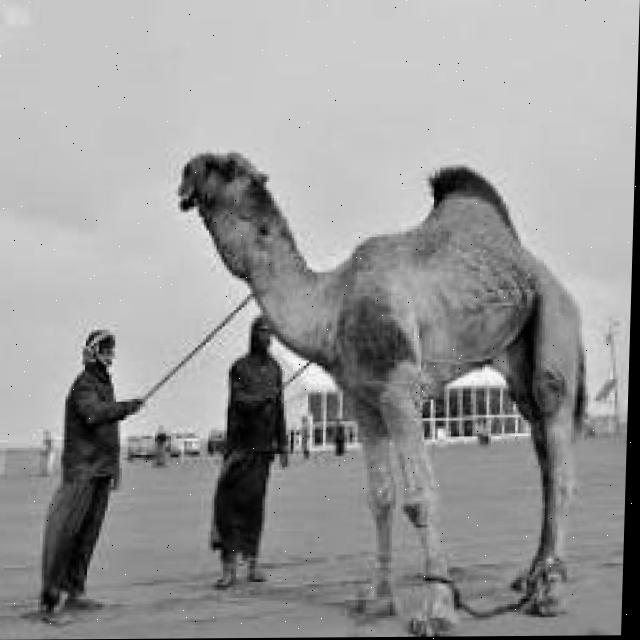Camel: (162, 145, 598, 636)
